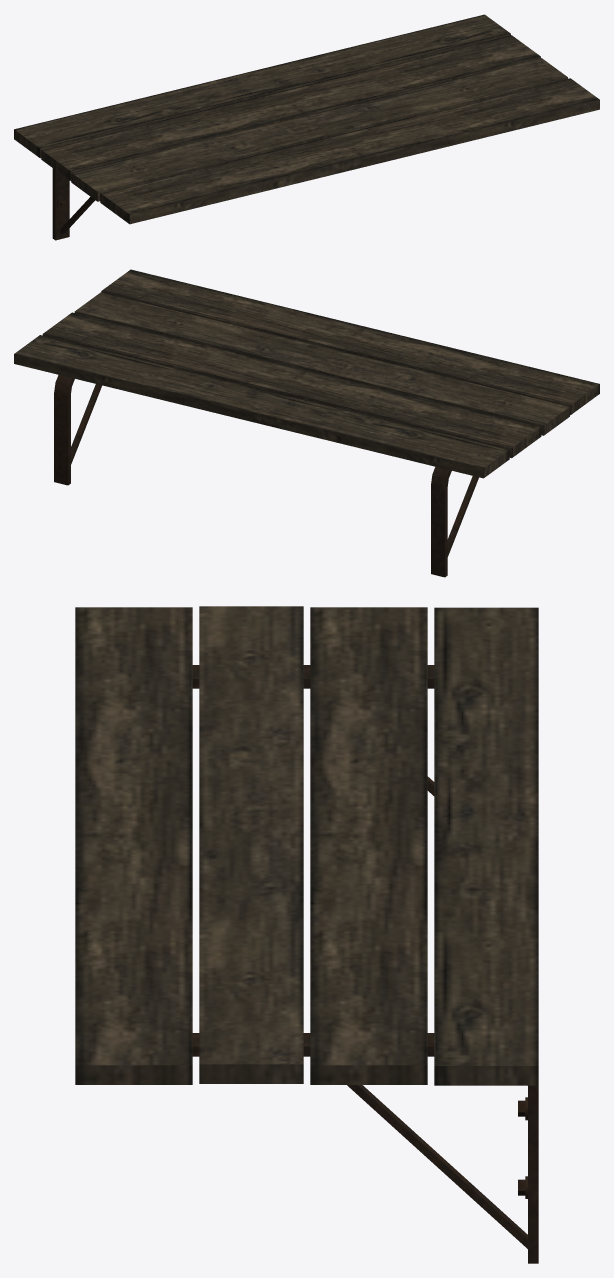
The model's file is hanging_shelf_mx_3.dae.
3 views of the same model, one above another, from view 1: azimuth 30°, elevation 25°; view 2: azimuth 150°, elevation 25°; view 3: azimuth 270°, elevation 25° (orthographic). The views are drawn at different scales.
Parts seen in each view (by area): view 1: hanging_shelf_mx_3; view 2: hanging_shelf_mx_3; view 3: hanging_shelf_mx_3.
Boxes of the visible parts, x1,y1,x2,y2 form: hanging_shelf_mx_3: (14, 14, 599, 240); hanging_shelf_mx_3: (14, 269, 599, 577); hanging_shelf_mx_3: (75, 606, 538, 1263).
Size of the model in its own units: 1 by 0.426 by 0.24.
2 materials, 2 textured.
